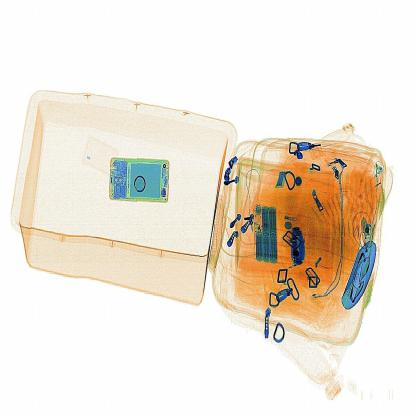scissors: (287, 220, 315, 271)
